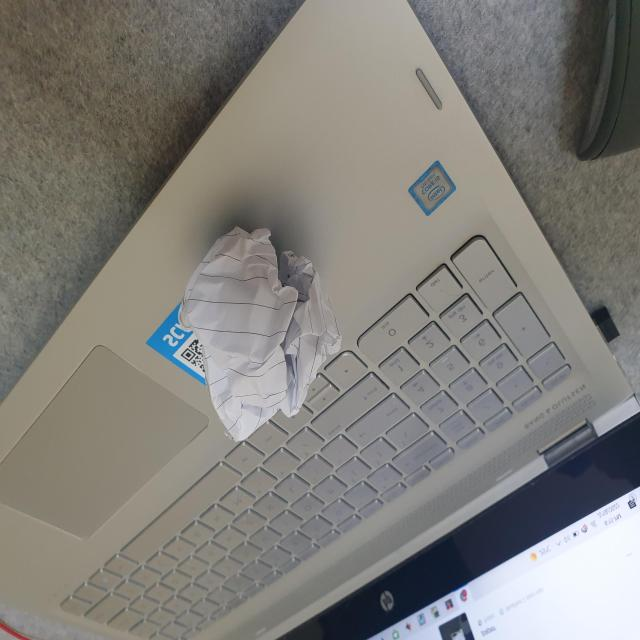kertas: (172, 211, 345, 453)
